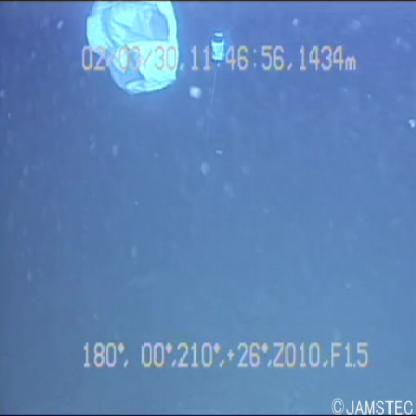Rác: (82, 1, 187, 96)
